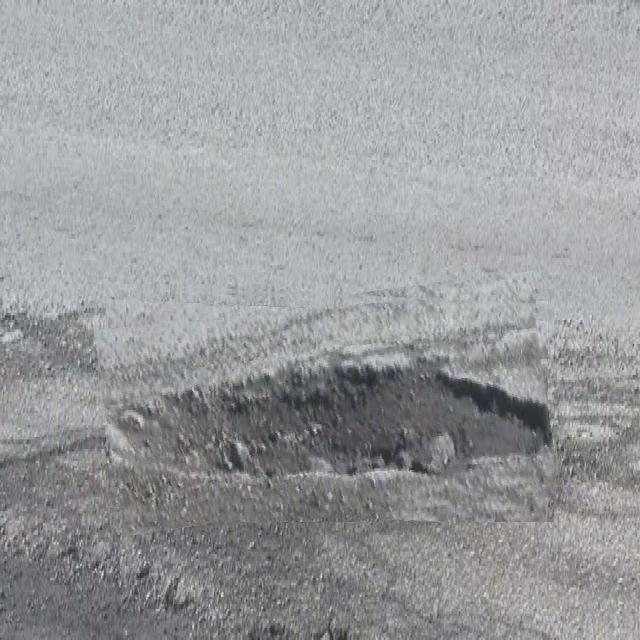Pothole: (100, 284, 554, 522)
